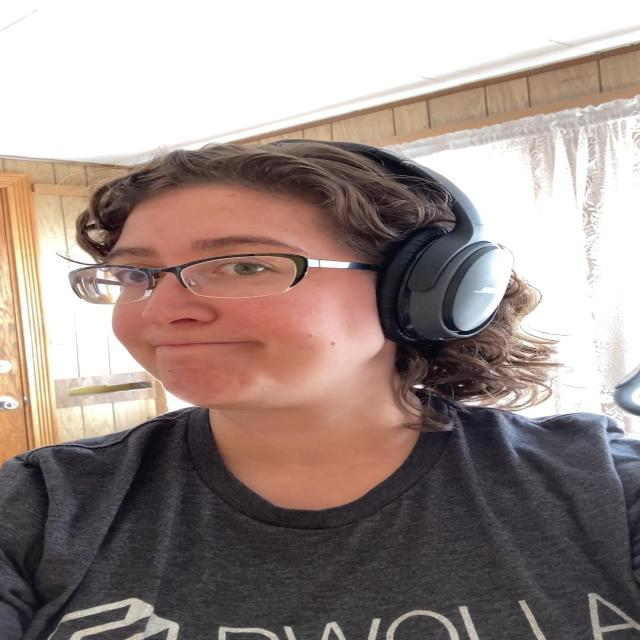NO-Mask: (105, 178, 394, 416)
